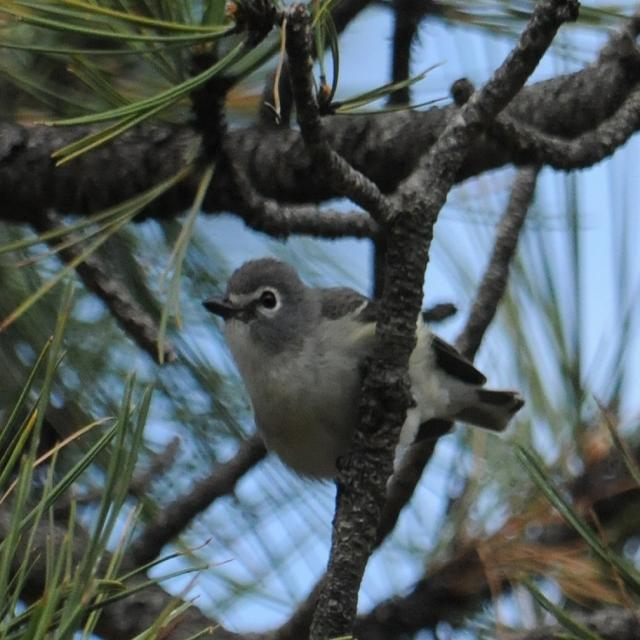bird: (199, 250, 525, 488)
